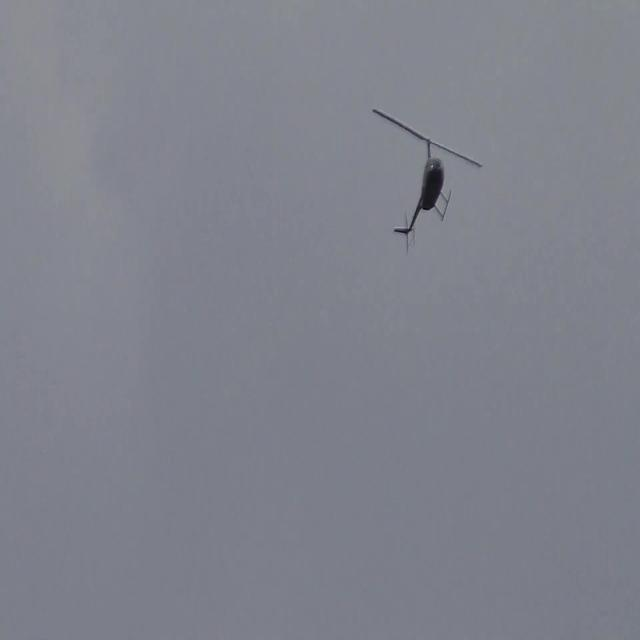CIV_HELO: (394, 137, 452, 235)
